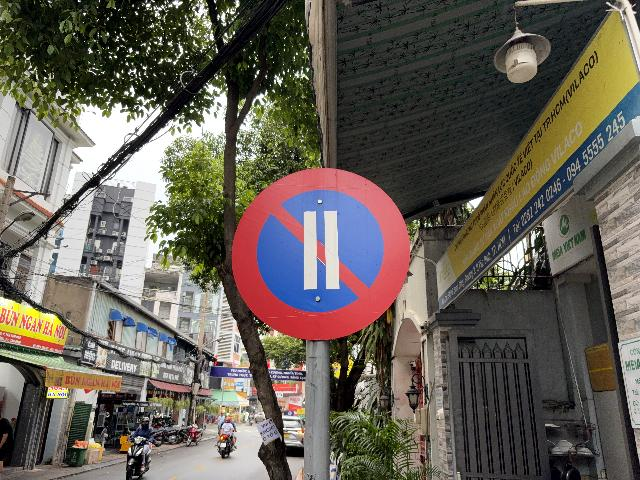cam-do-xe-ngay-chan: (234, 165, 412, 340)
